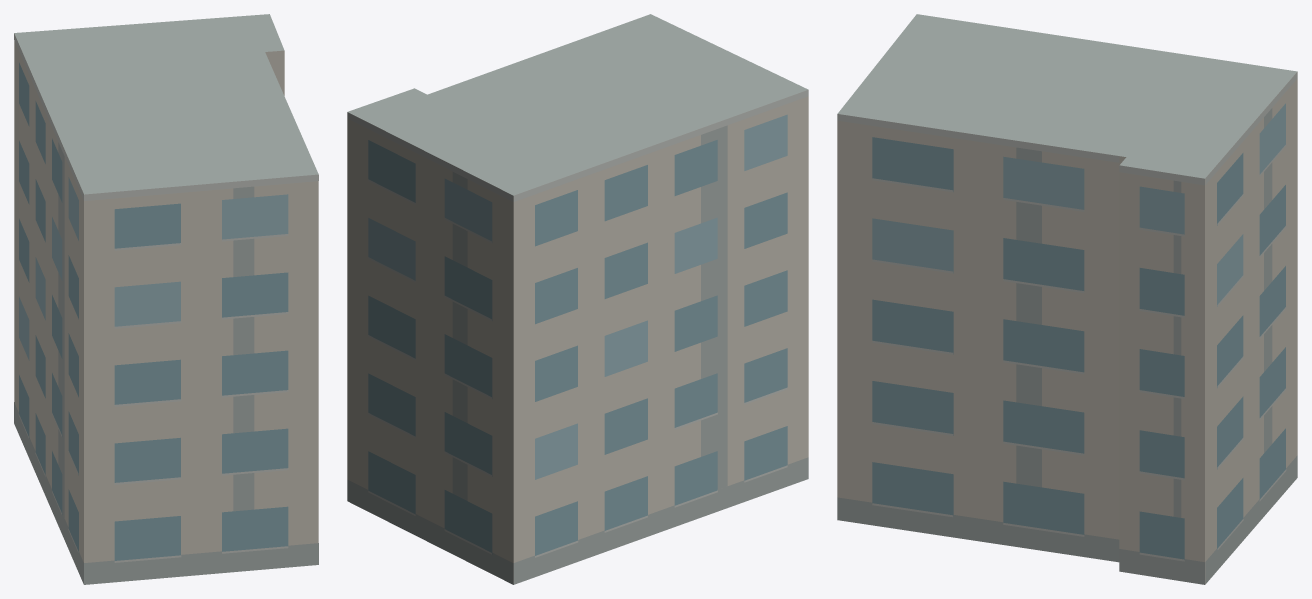
Rendered from survey-upis-32886026.glb.
3 renders of one model, left to right at view 1: azimuth 30°, elevation 25°; view 2: azimuth 150°, elevation 25°; view 3: azimuth 270°, elevation 25°, orthographic. The views are drawn at different scales.
Parts seen in each view (by area): view 1: survey-upis-32886026.tmp; view 2: survey-upis-32886026.tmp; view 3: survey-upis-32886026.tmp.
Part boxes in pixels (x1,y1,x2,y2): survey-upis-32886026.tmp: (14, 14, 318, 584); survey-upis-32886026.tmp: (347, 14, 808, 584); survey-upis-32886026.tmp: (837, 14, 1297, 584).
Bounding box in the file's own units: 12.61 × 14.5 × 14.9.
